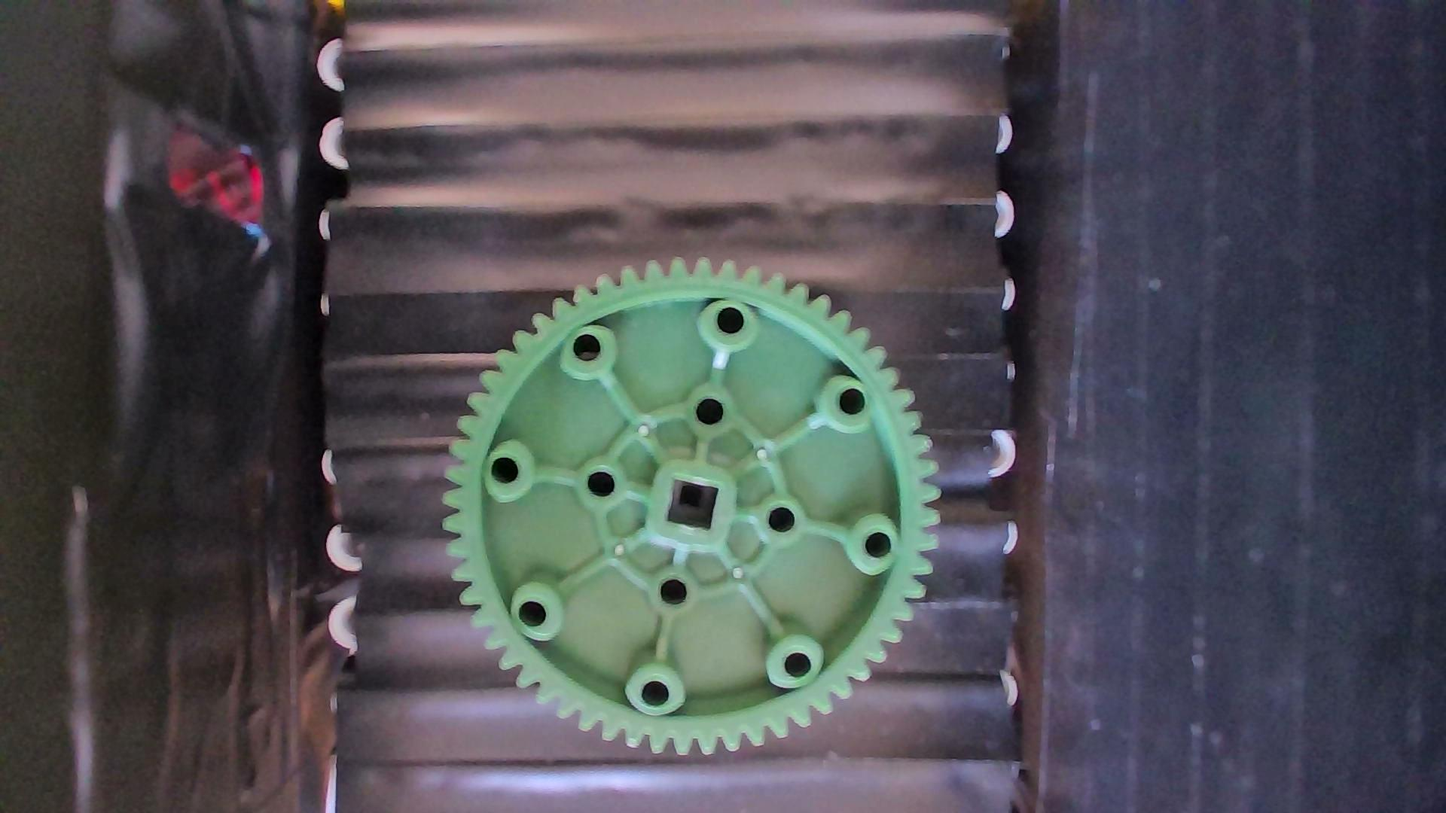gear: (442, 256, 941, 755)
